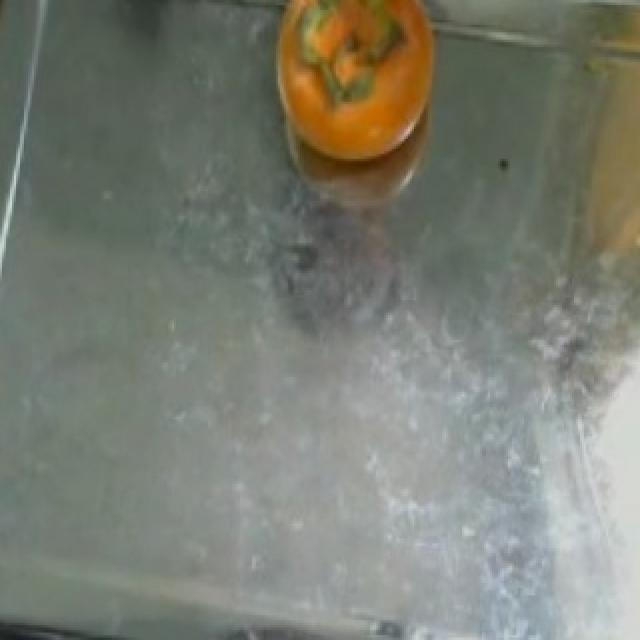Fruit: (256, 0, 460, 189)
